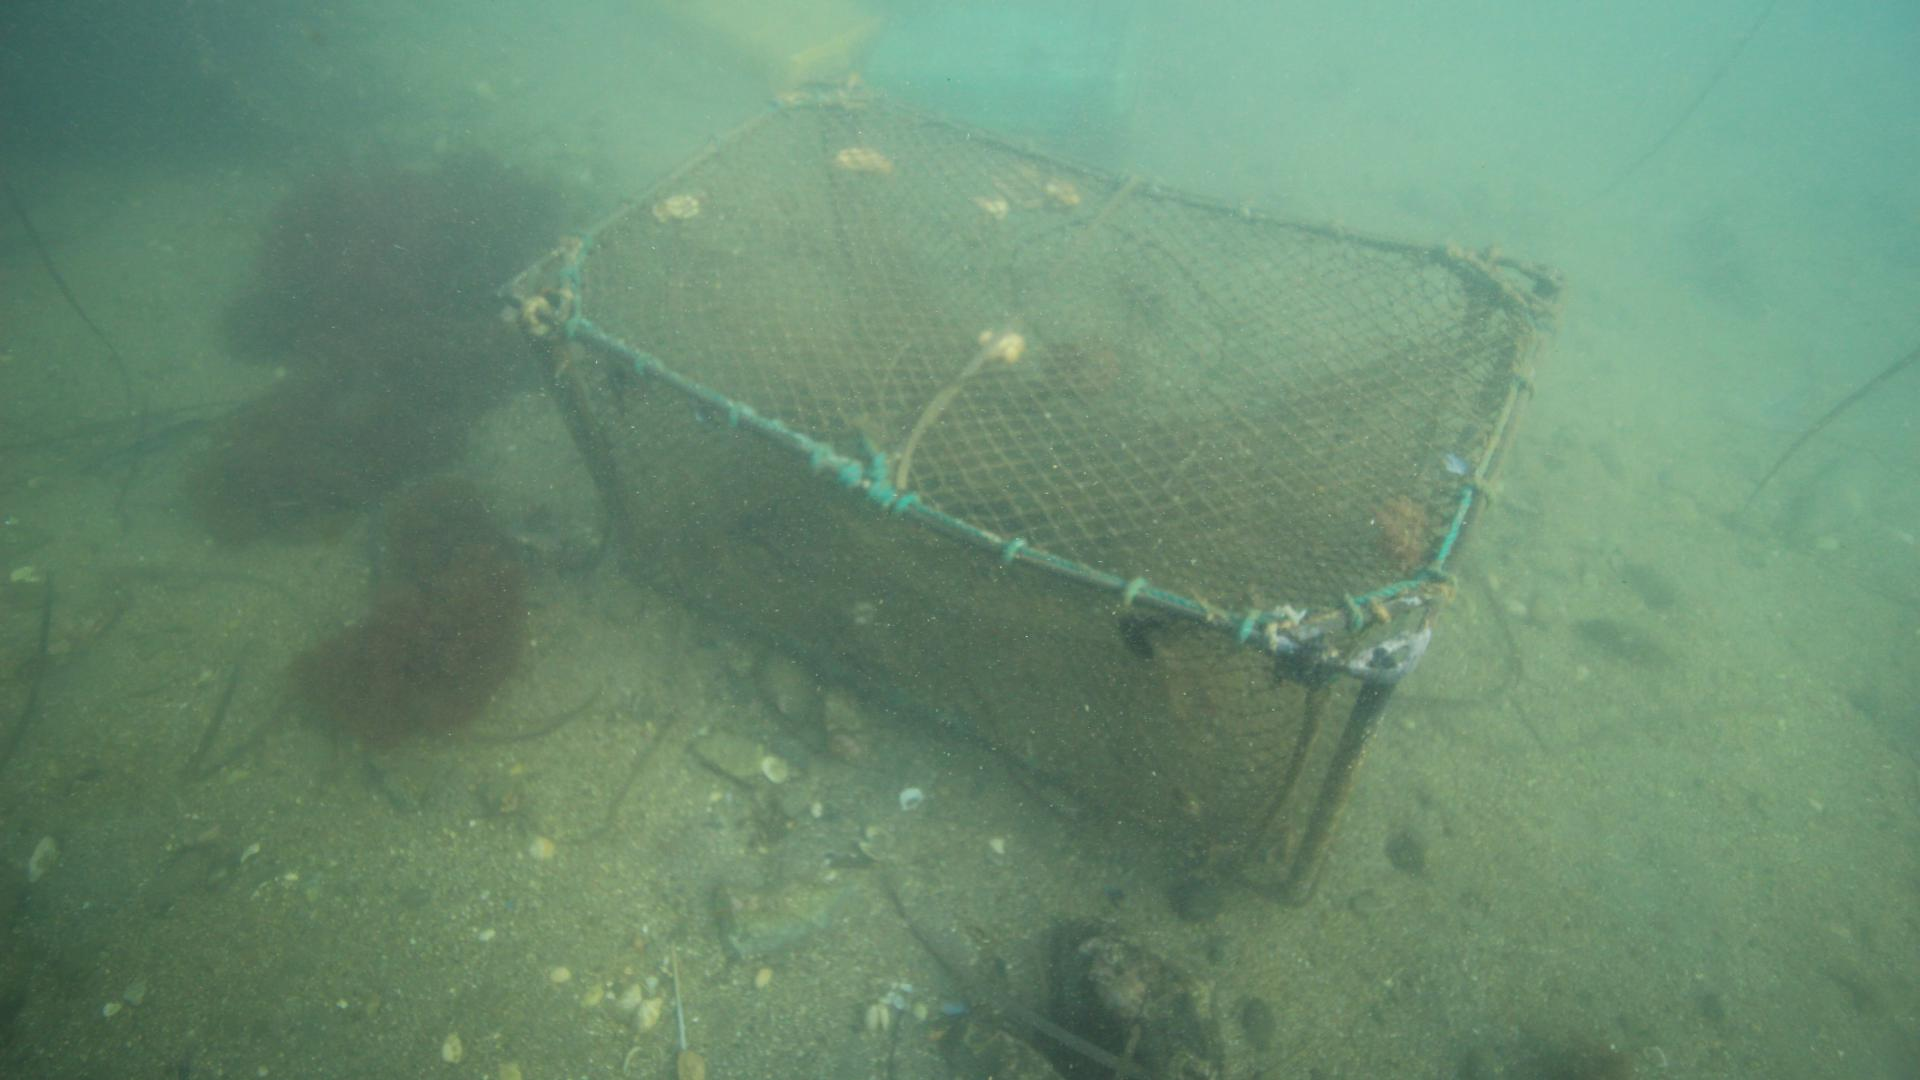rectangular fish trap: (493, 88, 1568, 911)
